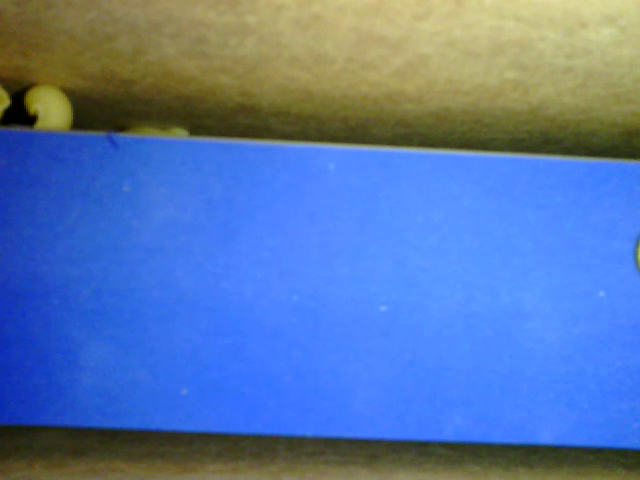shell: (29, 82, 73, 134)
